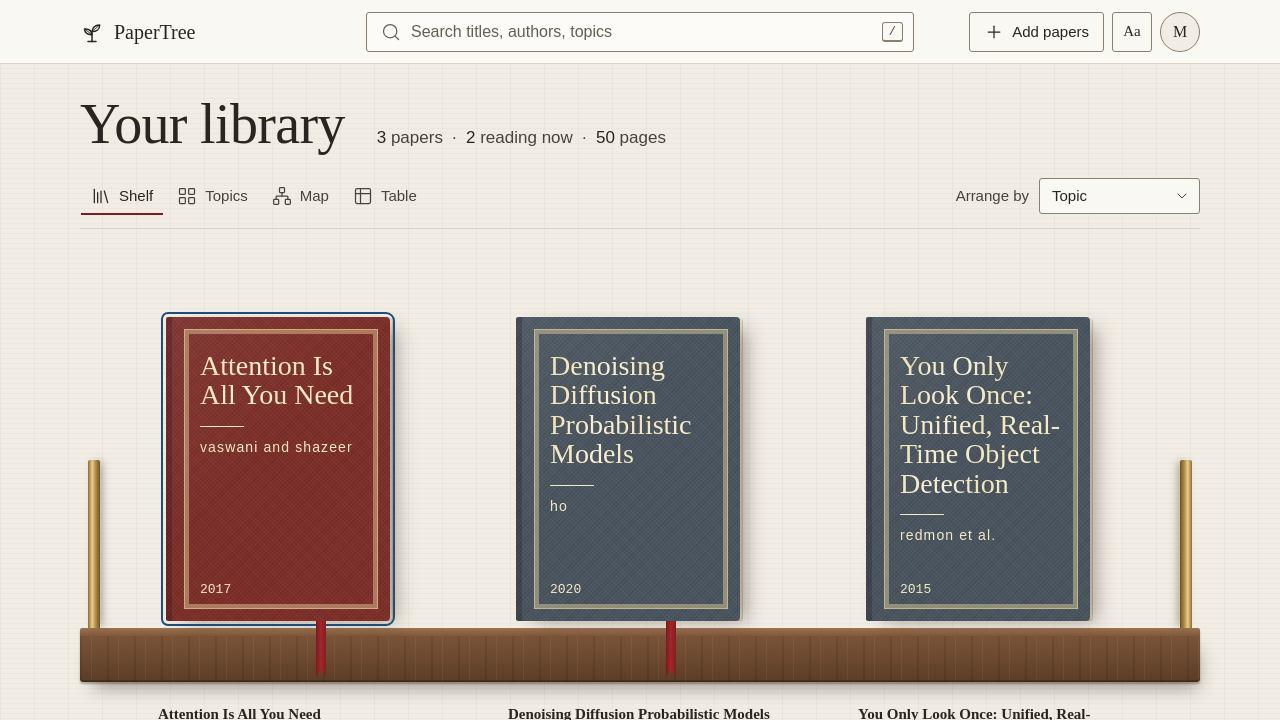
Test case: a short library stands face-out › draws covers, one tab stop, the arrows walk them and a click takes one down
Press ArrowRight in the button "Attention Is All You Need Vaswani and Shazeer 2017", box [166,317,390,621]
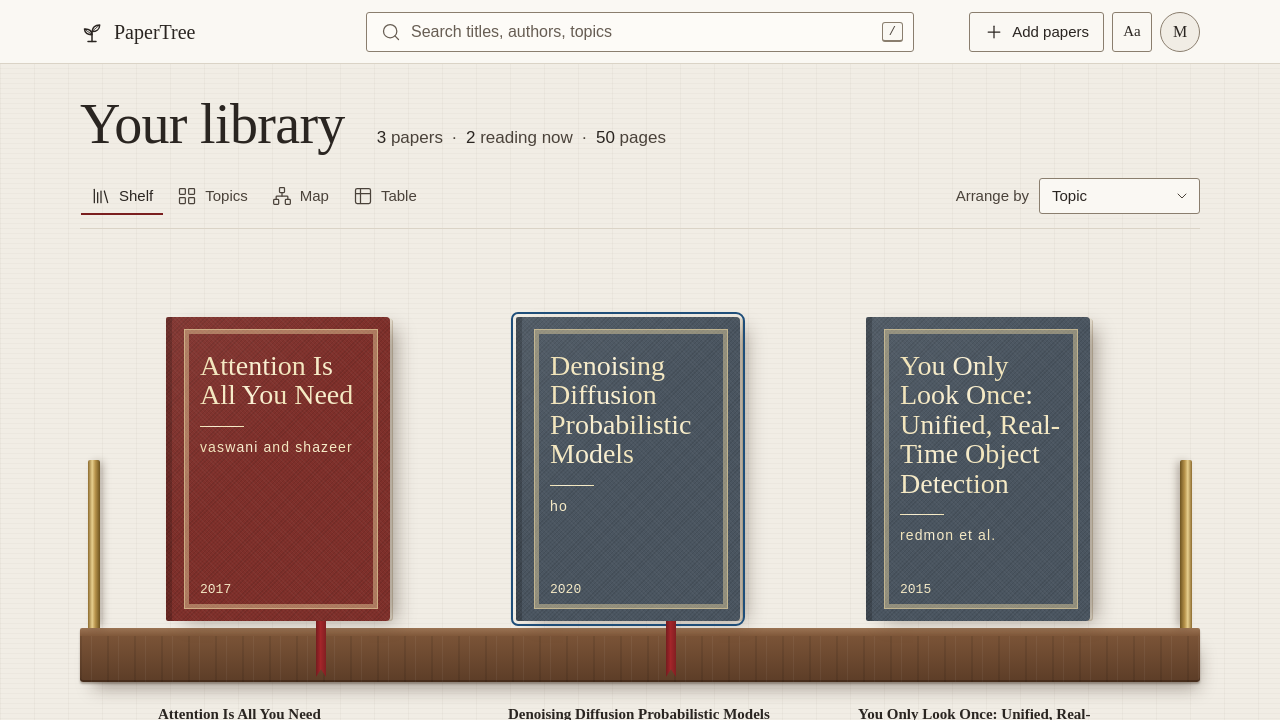
Press End in the button "Denoising Diffusion Probabilistic Models Ho 2020", box [516,317,740,621]
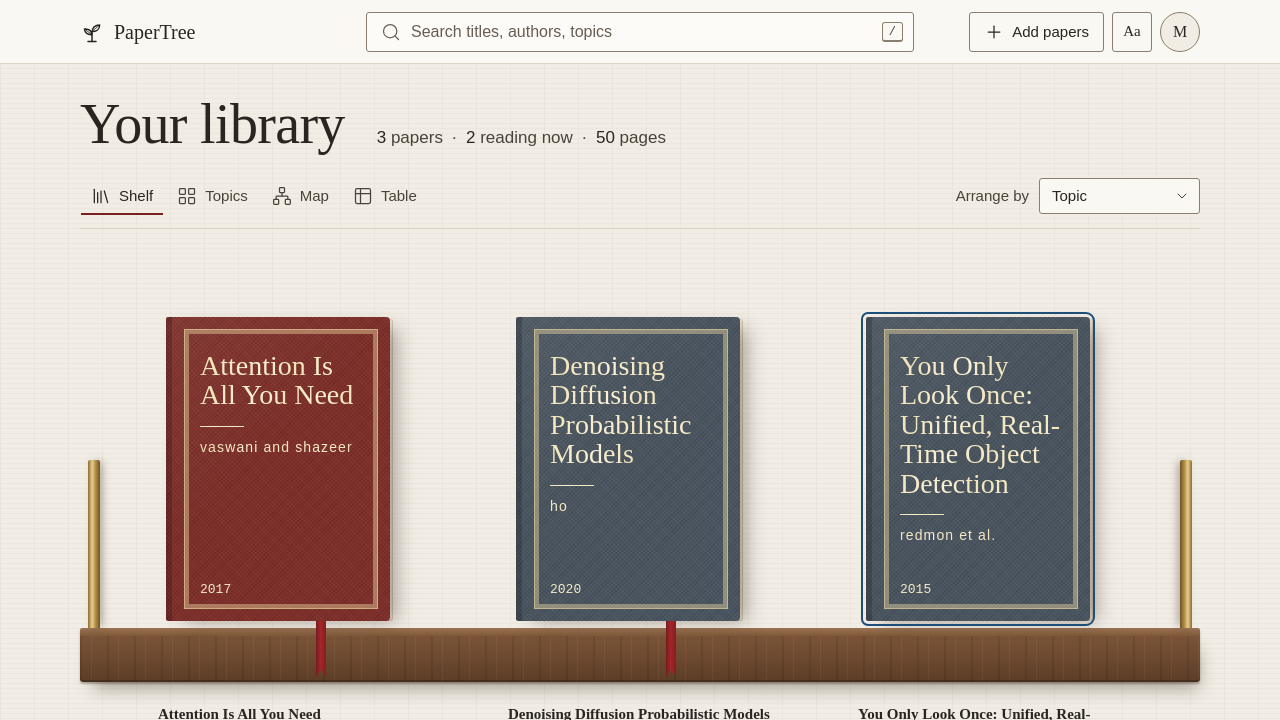
Click the button with aria-label "You Only Look Once: Unified, Real-Time Object Detection, Red". click: (978, 469)
box: [866,317,1090,621]
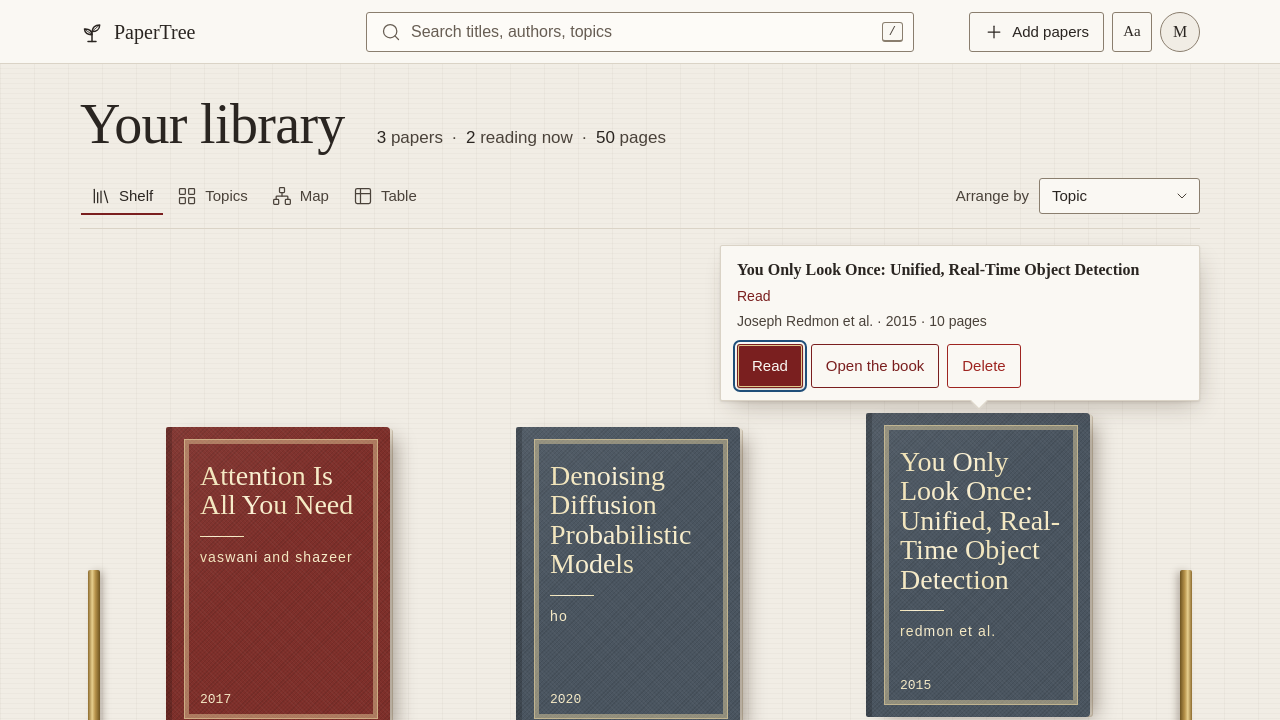
Result: the button with aria-label "You Only Look Once: Unified, Real-Time Object Detection, Red" is expanded at [866,413,1090,717]
